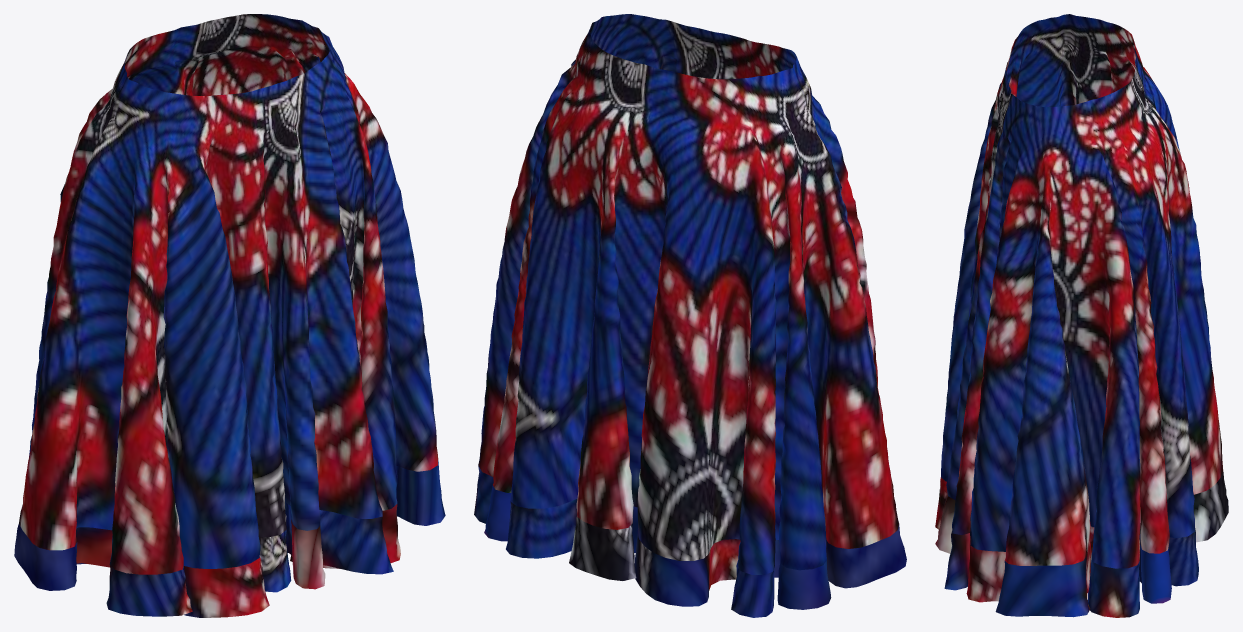
File: skirt_main.glb
The picture shows the model from 3 angles, left to right: view 1: azimuth 30°, elevation 25°; view 2: azimuth 150°, elevation 25°; view 3: azimuth 270°, elevation 25°; orthographic projection. The views are drawn at different scales.
Visible parts, largest first — view 1: all; view 2: all; view 3: all.
Part boxes in pixels (box(x1,y1,x2,y2)): all: box(14, 14, 445, 617); all: box(474, 14, 906, 617); all: box(935, 14, 1228, 617).
Bounding box in the file's own units: 0.7076 × 0.8517 × 0.4631.
Materials: 1 (1 with a texture image).
